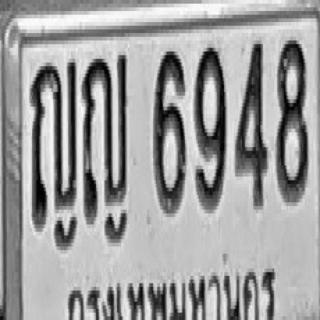A13: (81, 53, 129, 223), (30, 57, 77, 226)
N04: (234, 39, 268, 208)
N06: (154, 48, 186, 213)
N08: (276, 37, 308, 202)
N09: (194, 44, 226, 210)
